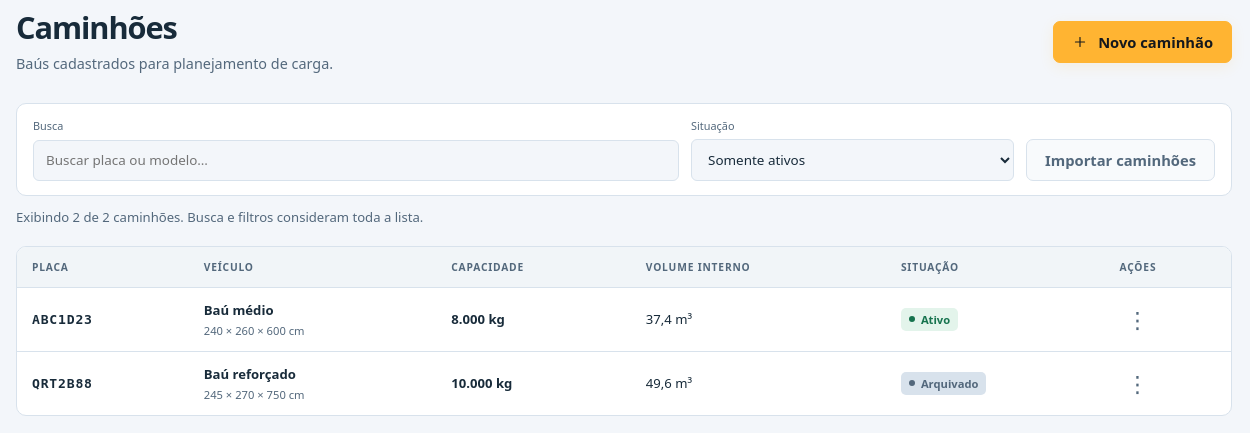
Test: TruckListPage › filtra por placa ou modelo consultando o servidor
Expected: the text "ABC1D23" is shown, x1=32 y1=312 x2=93 y2=327
Step 1. Type "reforçado" into the search field named "Buscar por placa ou modelo" → (356, 160), box x1=33 y1=140 x2=679 y2=181
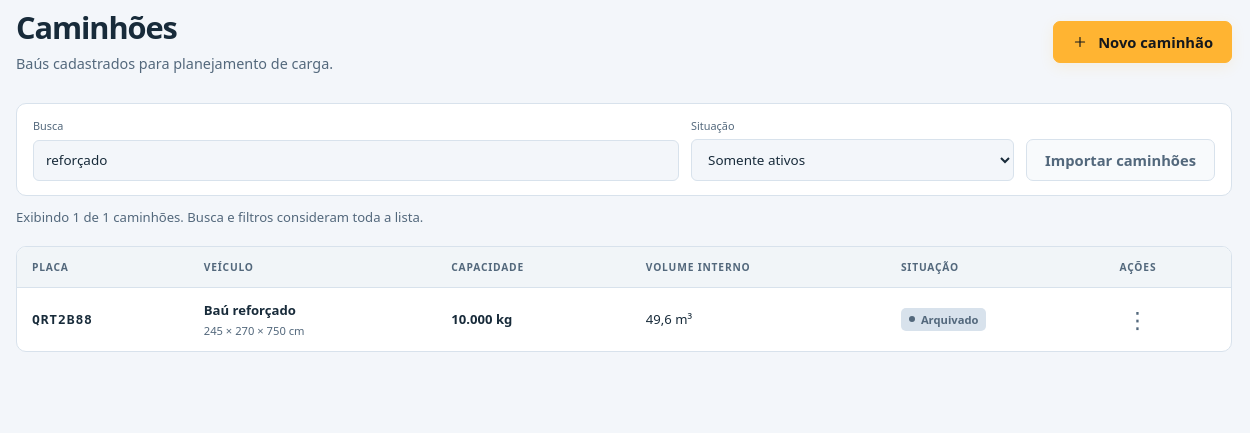
Expected: the text "QRT2B88" is shown, x1=32 y1=312 x2=93 y2=327
Now the text "ABC1D23" is gone
